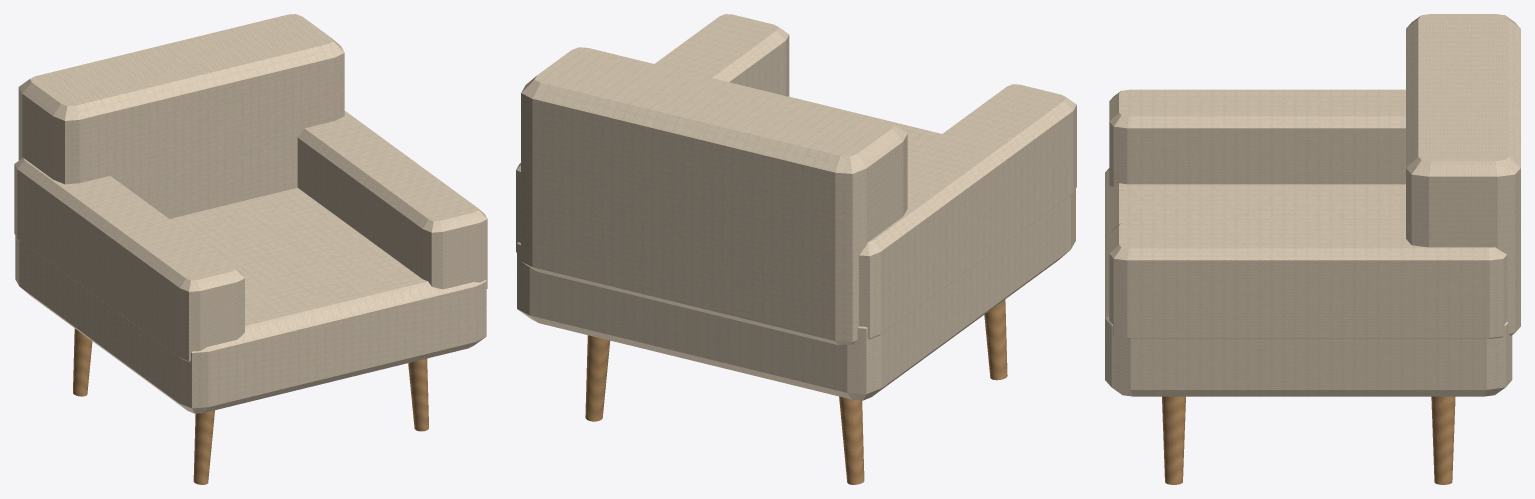
The picture shows the model from 3 angles, left to right: view 1: azimuth 30°, elevation 25°; view 2: azimuth 150°, elevation 25°; view 3: azimuth 270°, elevation 25°; orthographic projection. The views are drawn at different scales.
Parts seen in each view (by area): view 1: generated_6b2e24c0a14242a496bdafc0840d9fd7_fabricLinen, generated_6b2e24c0a14242a496bdafc0840d9fd7_woodOak; view 2: generated_6b2e24c0a14242a496bdafc0840d9fd7_fabricLinen, generated_6b2e24c0a14242a496bdafc0840d9fd7_woodOak; view 3: generated_6b2e24c0a14242a496bdafc0840d9fd7_fabricLinen, generated_6b2e24c0a14242a496bdafc0840d9fd7_woodOak.
Boxes of the visible parts, <box> form: generated_6b2e24c0a14242a496bdafc0840d9fd7_fabricLinen: <box>14,14,487,413</box>; generated_6b2e24c0a14242a496bdafc0840d9fd7_woodOak: <box>73,328,428,484</box>; generated_6b2e24c0a14242a496bdafc0840d9fd7_fabricLinen: <box>516,14,1076,400</box>; generated_6b2e24c0a14242a496bdafc0840d9fd7_woodOak: <box>585,299,1007,484</box>; generated_6b2e24c0a14242a496bdafc0840d9fd7_fabricLinen: <box>1105,14,1520,396</box>; generated_6b2e24c0a14242a496bdafc0840d9fd7_woodOak: <box>1162,396,1455,484</box>.
Size of what is drawn, in the model's own units: 0.85 by 0.8 by 0.9.
2 materials, 2 textured.
